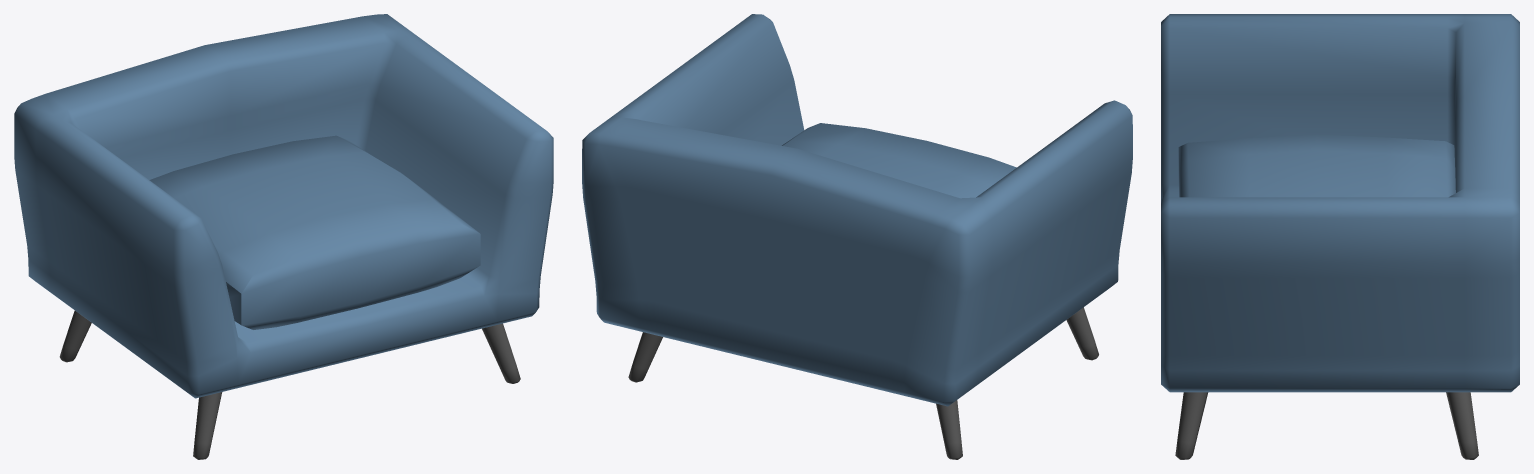
File: couch_small.glb
The picture shows the model from 3 angles, left to right: view 1: azimuth 30°, elevation 25°; view 2: azimuth 150°, elevation 25°; view 3: azimuth 270°, elevation 25°; orthographic projection. The views are drawn at different scales.
Parts seen in each view (by area): view 1: Couch_Small1; view 2: Couch_Small1; view 3: Couch_Small1.
Part boxes in pixels (box(x1,y1,x2,y2)): Couch_Small1: box(14, 14, 553, 459); Couch_Small1: box(582, 14, 1132, 459); Couch_Small1: box(1161, 14, 1519, 459).
Size of the model in its own units: 2.89 by 1.91 by 2.2.
